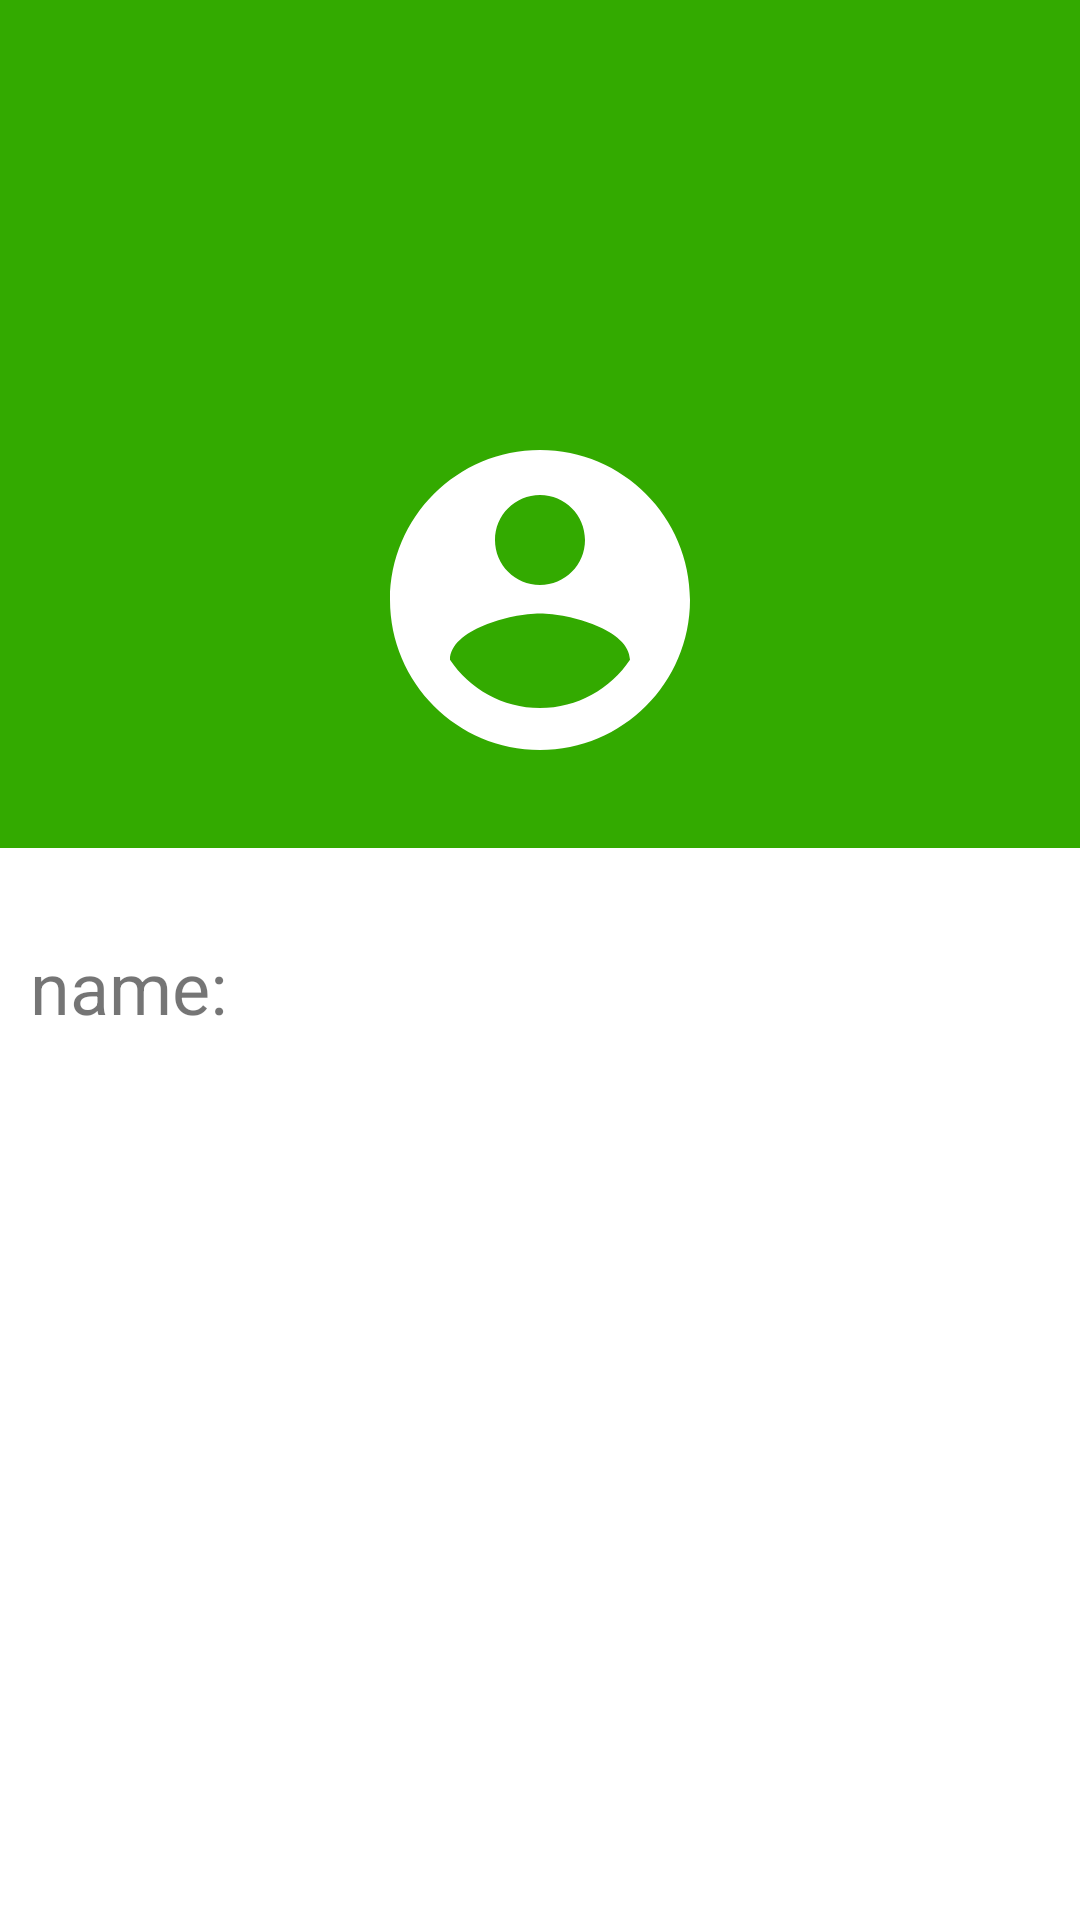

Screen size 1080*1920. Icon name, then its box in pixels as (x1, y1, x2, y2):
change your avatar: (390, 450, 690, 750)
